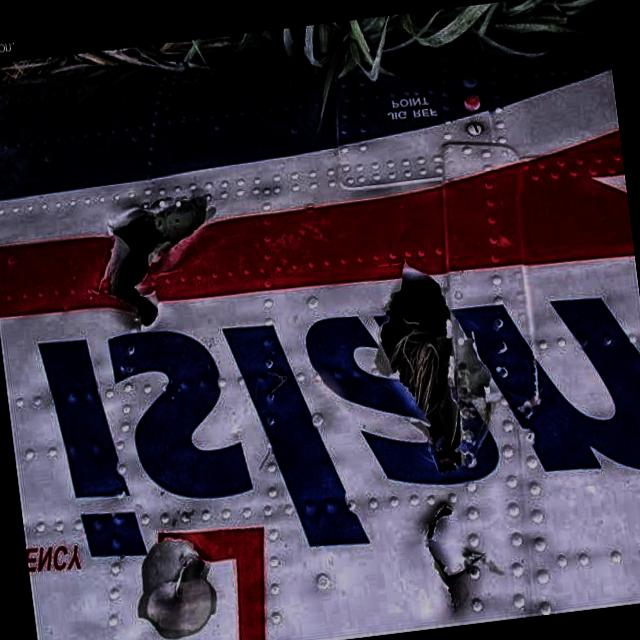crack: (359, 241, 502, 486), (84, 186, 232, 338), (416, 492, 496, 624), (166, 551, 210, 606)
